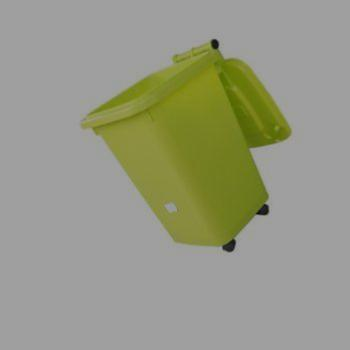Bote de Basura: (87, 41, 302, 252)
